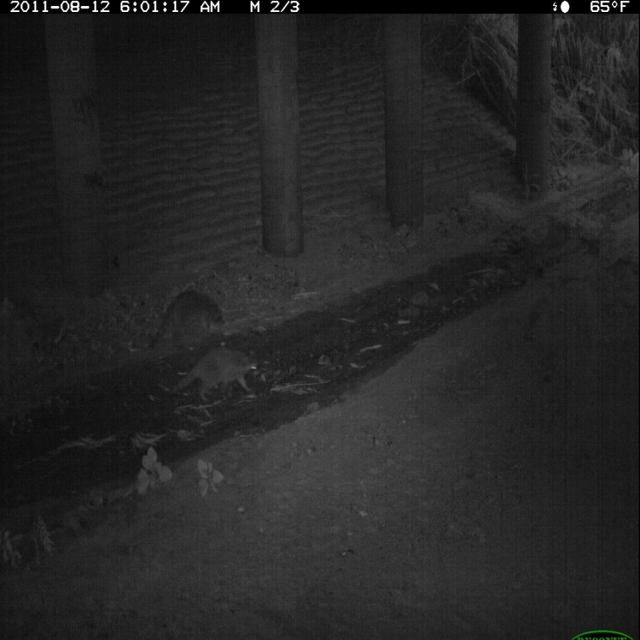raccoon: (167, 344, 263, 405), (152, 287, 230, 354)
